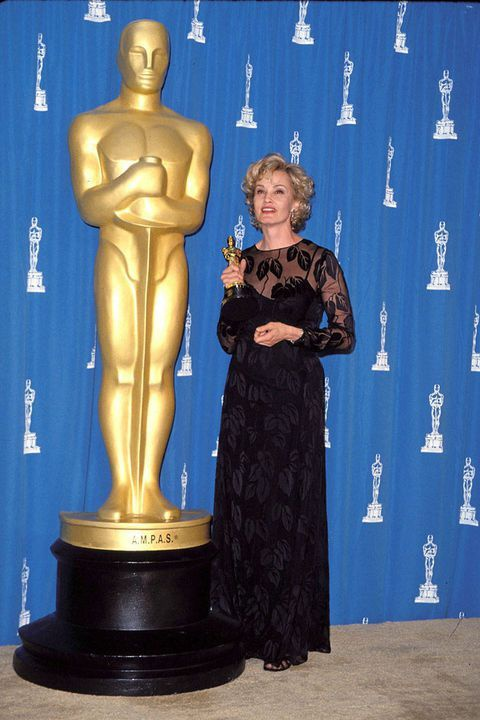hand: (220, 265, 240, 289)
